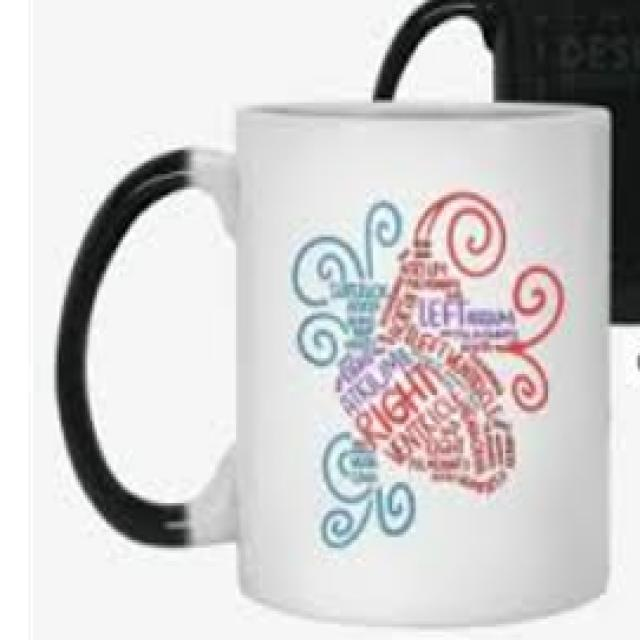taza: (55, 101, 614, 630)
